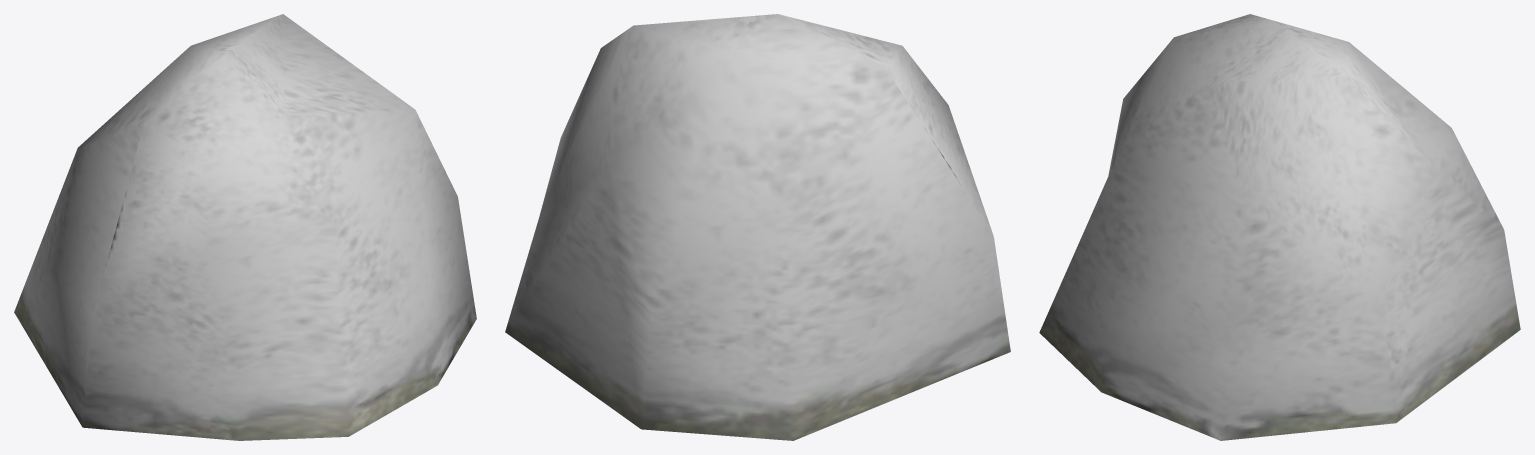
Rendered from general_obj_stone07_lod_01.fbx.
3 views of the same model, side by side, from view 1: azimuth 30°, elevation 25°; view 2: azimuth 150°, elevation 25°; view 3: azimuth 270°, elevation 25° (orthographic). The views are drawn at different scales.
Parts seen in each view (by area): view 1: Sphere01; view 2: Sphere01; view 3: Sphere01.
Boxes of the visible parts, left/top/right/bottom form: Sphere01: left=14, top=14, right=476, bottom=440; Sphere01: left=505, top=14, right=1010, bottom=440; Sphere01: left=1039, top=14, right=1520, bottom=440.
Bounding box in the file's own units: 3.67 × 2.58 × 3.68.
